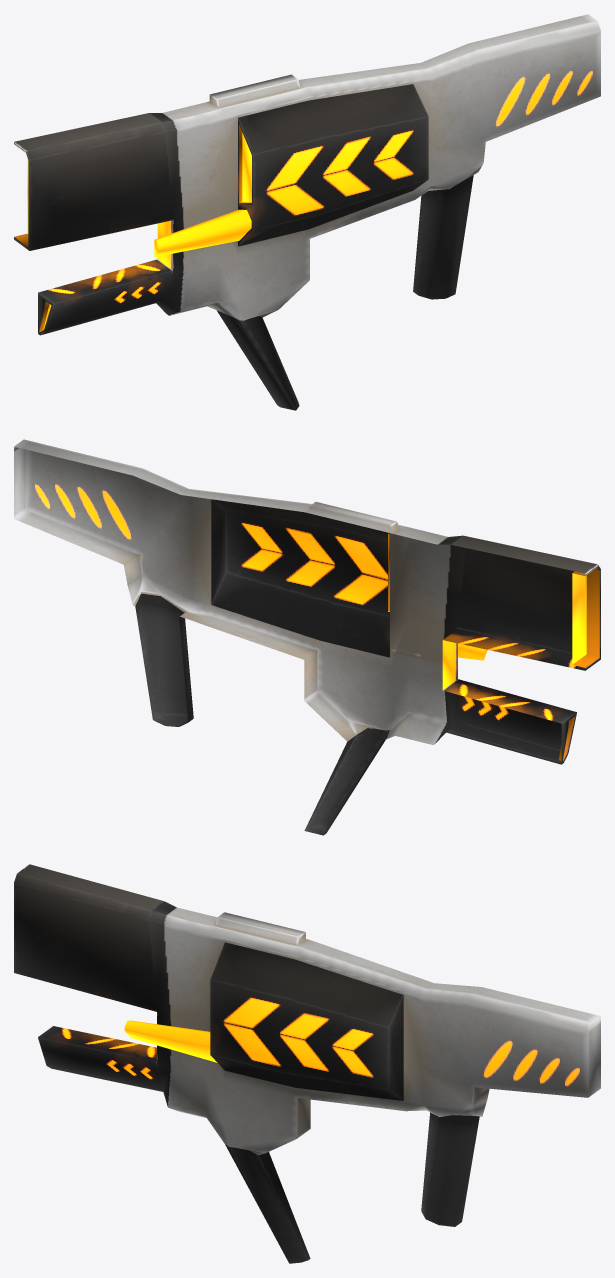
The model's file is Gun.glb.
3 views of the same model, one above another, from view 1: azimuth 30°, elevation 25°; view 2: azimuth 150°, elevation 25°; view 3: azimuth 330°, elevation 25° (orthographic).
Visible parts, largest first — view 1: gun.001; view 2: gun.001; view 3: gun.001.
Part boxes in pixels (box(x1,y1,x2,y2)): gun.001: box(14, 14, 600, 410); gun.001: box(14, 439, 600, 835); gun.001: box(14, 864, 600, 1263).
Size of the model in its own units: 2.4 by 1.31 by 0.2083.
Materials: 1 (1 with a texture image).
